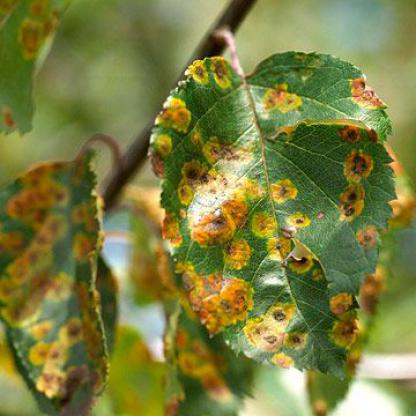apple rust leaf: (146, 37, 401, 377), (1, 149, 124, 415)
